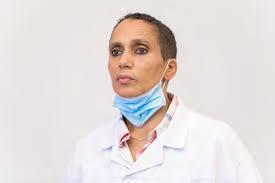Wore Mask Incorrectly: (103, 12, 184, 127)
